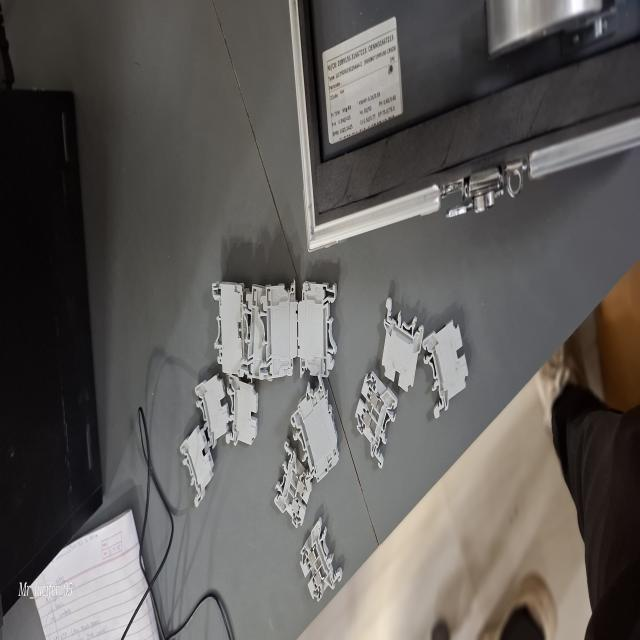Inverted: (422, 314, 472, 422), (380, 294, 424, 394), (177, 422, 217, 511), (194, 369, 232, 448), (224, 371, 260, 448)
Pass: (356, 368, 400, 473), (299, 516, 344, 608), (274, 442, 312, 534)
